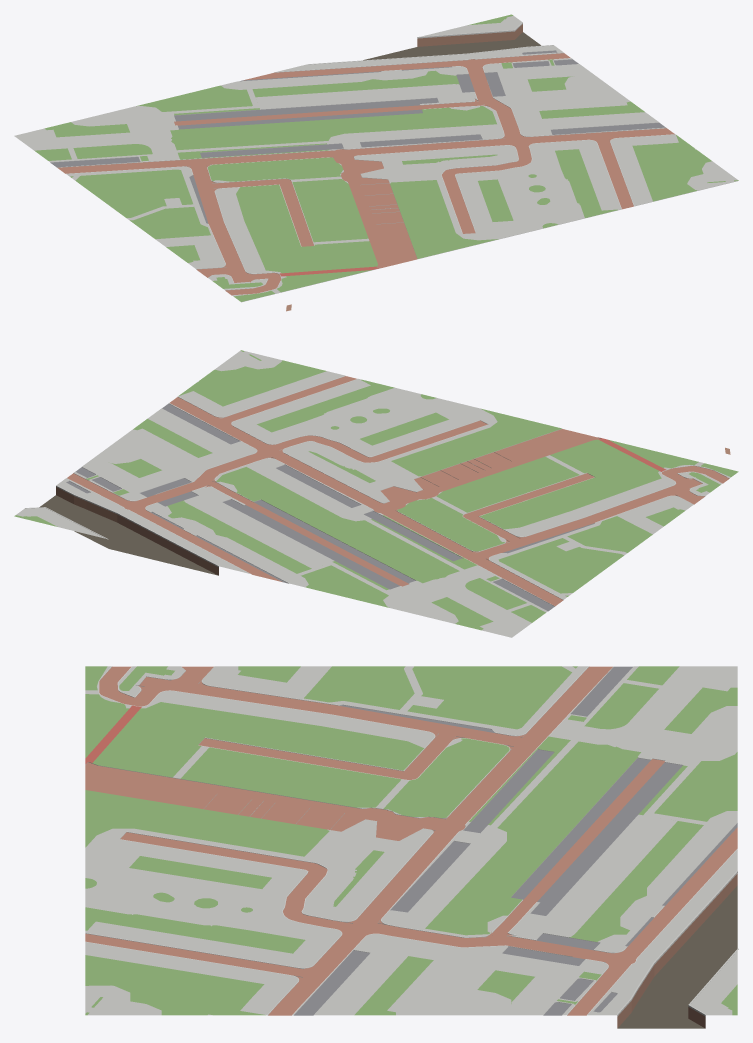
File: ground_11_13.glb
3 views of the same model, one above another, from view 1: azimuth 30°, elevation 25°; view 2: azimuth 150°, elevation 25°; view 3: azimuth 270°, elevation 25° (orthographic). The views are drawn at different scales.
Parts seen in each view (by area): view 1: ground_11_13; view 2: ground_11_13; view 3: ground_11_13.
Boxes of the visible parts, x1,y1,x2,y2 form: ground_11_13: (14,14,738,311); ground_11_13: (14,350,738,637); ground_11_13: (85,666,738,1028).
Size of the model in its own units: 200 by 3.68 by 176.
